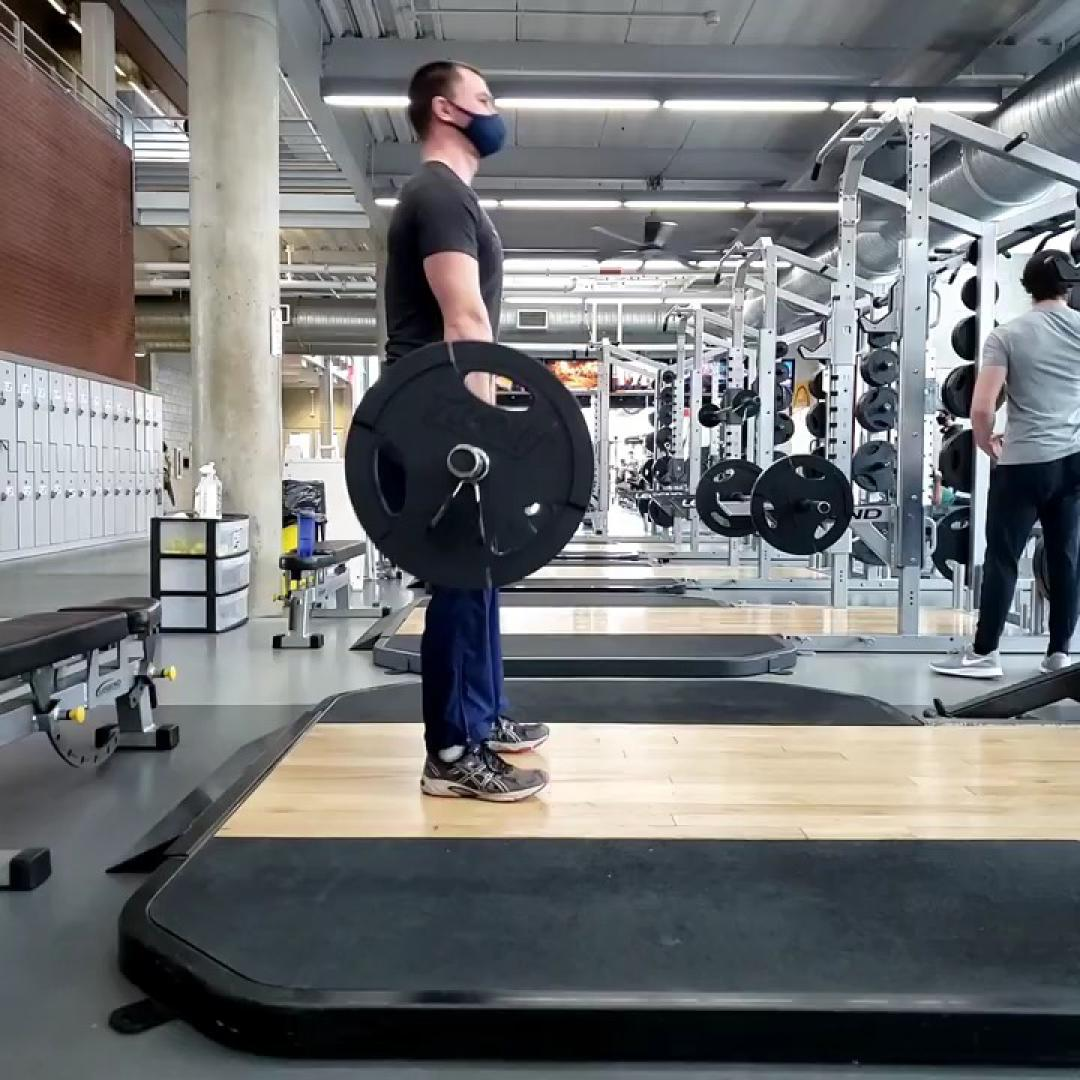Bar: (447, 444, 480, 477)
Barbell: (345, 340, 594, 590)
